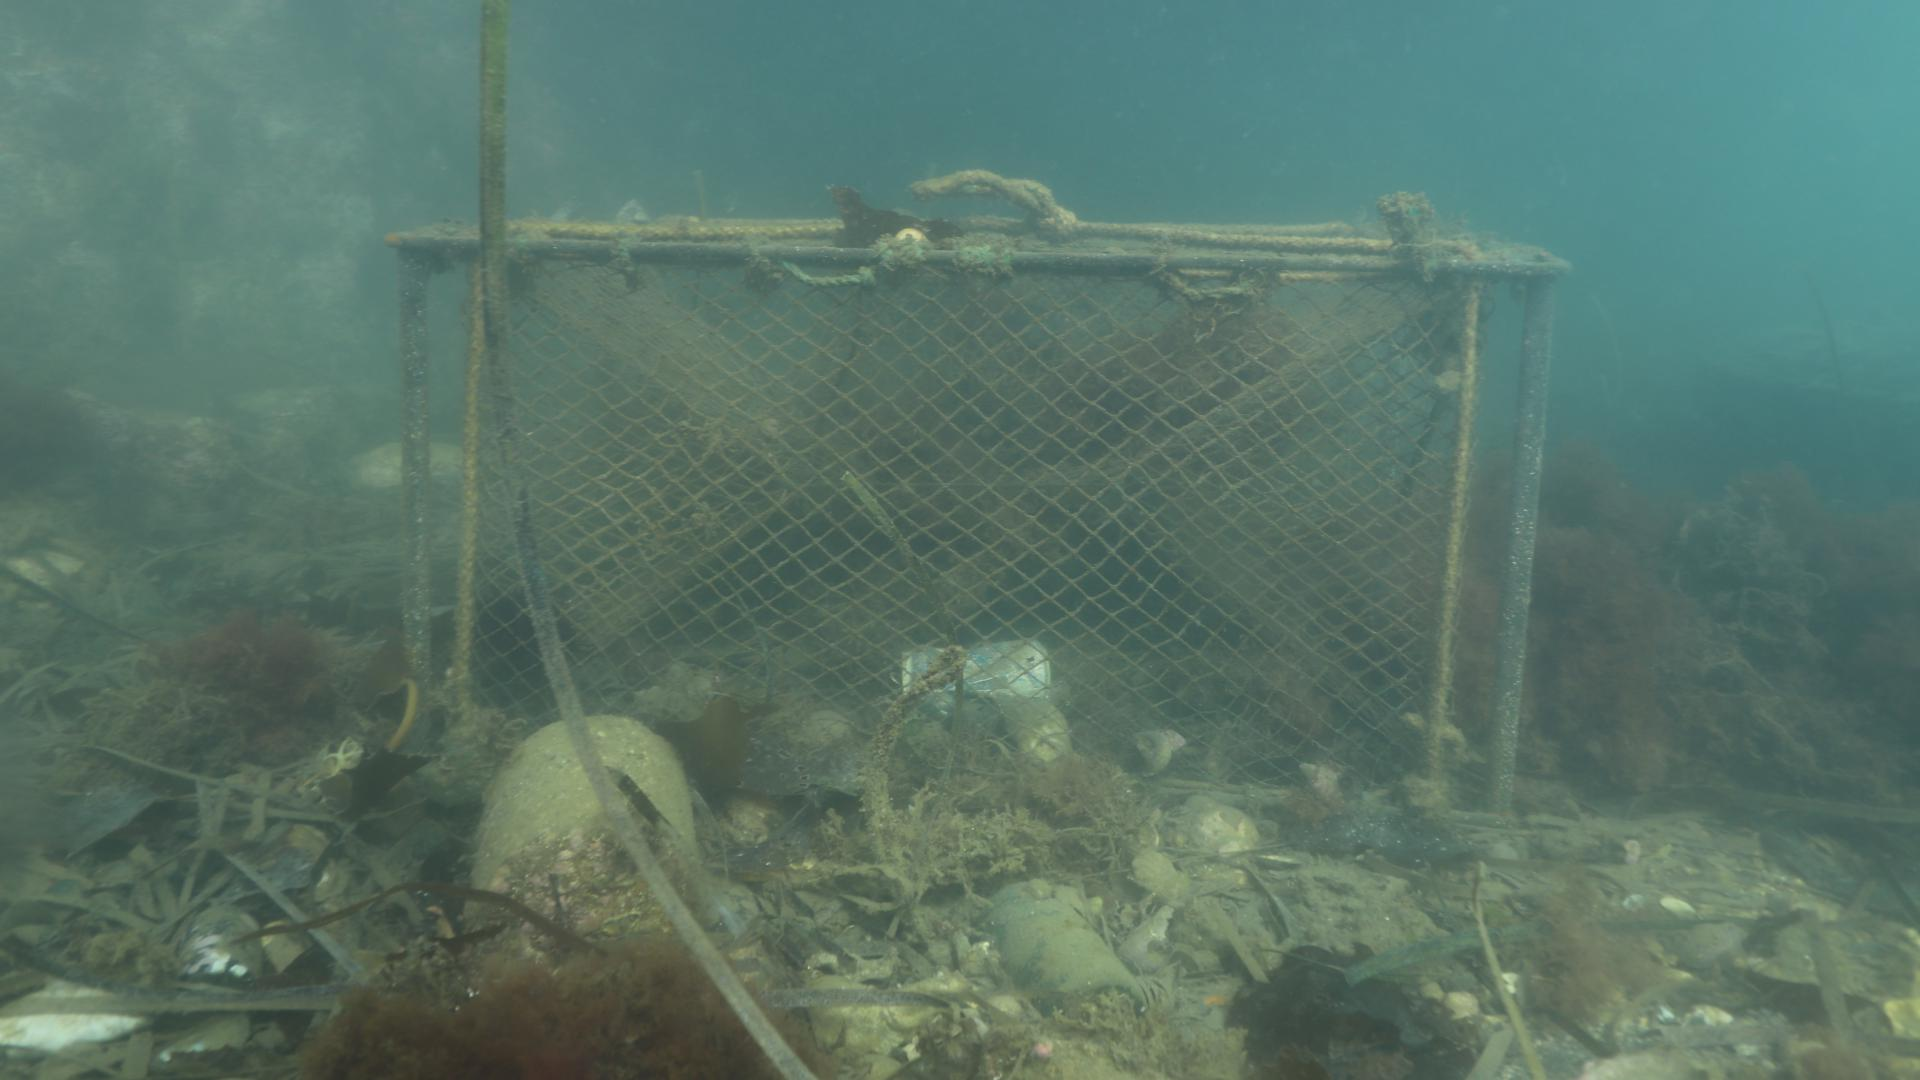bundle of ropes: (919, 162, 1083, 229)
rectangular fish trap: (381, 220, 1568, 818)
